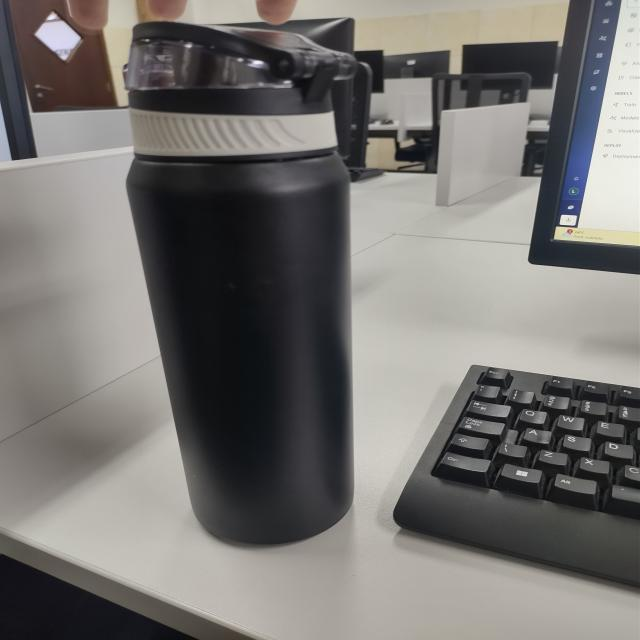Garrafa: (121, 22, 359, 546)
